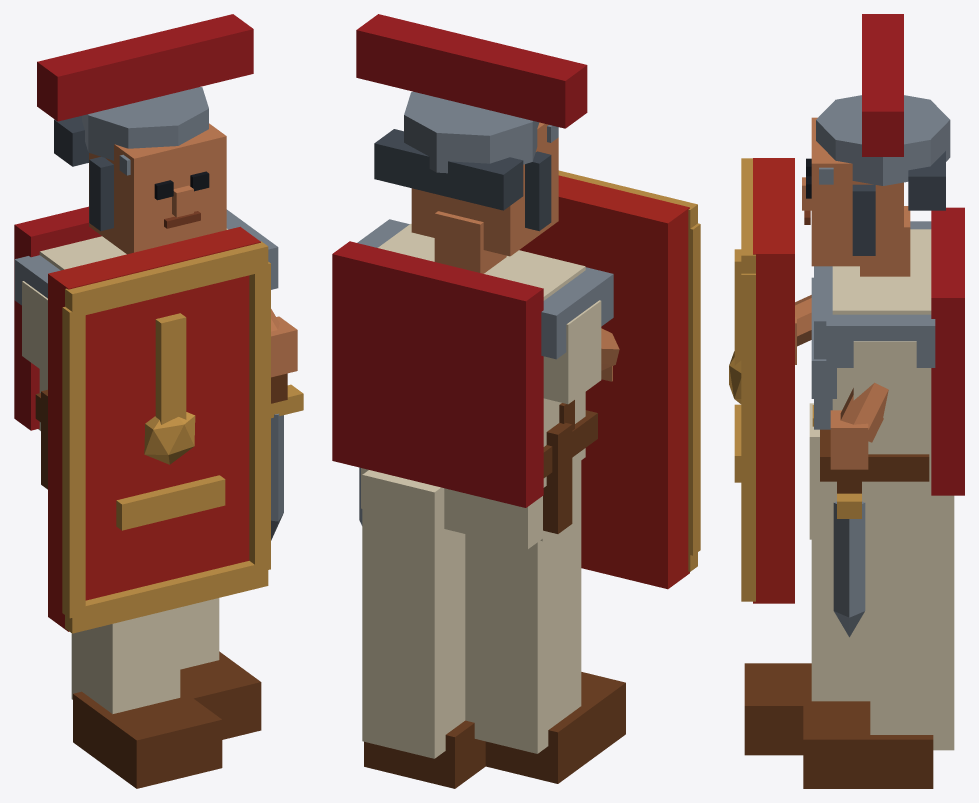
The model's file is centurio.glb.
The picture shows the model from 3 angles, left to right: view 1: azimuth 30°, elevation 25°; view 2: azimuth 150°, elevation 25°; view 3: azimuth 270°, elevation 25°; orthographic projection. The views are drawn at different scales.
Parts seen in each view (by area): view 1: 50_Scutum_Corpo, 41_Cresta_Trasversale, 03_Caliga_Sinistra, 31_Viso, 01_Gamba_Sinistra_Avanti, 53_Scutum_Bordo_Sinistro, 54_Scutum_Bordo_Destro, 51_Scutum_Bordo_Superiore, 36_Elmo_Pretoriano, 52_Scutum_Bordo_Inferiore, 18_Mantello_Quadrato, 04_Caliga_Destra (+15 smaller); view 2: 18_Mantello_Quadrato, 50_Scutum_Corpo, 02_Gamba_Destra_Indietro, 01_Gamba_Sinistra_Avanti, 41_Cresta_Trasversale, 36_Elmo_Pretoriano, 03_Caliga_Sinistra, 38_Paranuca_Elmo, 31_Viso, 10_Bacino, 11_Tunica_Busto, 53_Scutum_Bordo_Sinistro (+9 smaller); view 3: 50_Scutum_Corpo, 02_Gamba_Destra_Indietro, 11_Tunica_Busto, 18_Mantello_Quadrato, 04_Caliga_Destra, 31_Viso, 01_Gamba_Sinistra_Avanti, 36_Elmo_Pretoriano, 03_Caliga_Sinistra, 41_Cresta_Trasversale, 54_Scutum_Bordo_Destro, 24_Spallaccio_Destro (+21 smaller).
Part boxes in pixels (left/top/right/bottom): 50_Scutum_Corpo: left=48, top=226, right=260, bottom=631; 41_Cresta_Trasversale: left=37, top=14, right=253, bottom=121; 03_Caliga_Sinistra: left=73, top=689, right=222, bottom=788; 31_Viso: left=89, top=123, right=226, bottom=254; 01_Gamba_Sinistra_Avanti: left=71, top=607, right=180, bottom=713; 53_Scutum_Bordo_Sinistro: left=62, top=307, right=85, bottom=618; 54_Scutum_Bordo_Destro: left=249, top=262, right=270, bottom=569; 51_Scutum_Bordo_Superiore: left=65, top=241, right=268, bottom=318; 36_Elmo_Pretoriano: left=82, top=87, right=208, bottom=160; 52_Scutum_Bordo_Inferiore: left=65, top=561, right=268, bottom=633; 18_Mantello_Quadrato: left=14, top=206, right=101, bottom=430; 04_Caliga_Destra: left=180, top=651, right=261, bottom=739; 18_Mantello_Quadrato: left=332, top=241, right=543, bottom=507; 50_Scutum_Corpo: left=519, top=175, right=689, bottom=589; 02_Gamba_Destra_Indietro: left=362, top=470, right=465, bottom=758; 01_Gamba_Sinistra_Avanti: left=465, top=461, right=581, bottom=753; 41_Cresta_Trasversale: left=356, top=14, right=587, bottom=128; 36_Elmo_Pretoriano: left=404, top=91, right=539, bottom=173; 03_Caliga_Sinistra: left=485, top=672, right=625, bottom=783; 38_Paranuca_Elmo: left=374, top=129, right=523, bottom=210; 31_Viso: left=411, top=122, right=558, bottom=256; 10_Bacino: left=361, top=461, right=580, bottom=549; 11_Tunica_Busto: left=378, top=224, right=585, bottom=487; 53_Scutum_Bordo_Sinistro: left=688, top=223, right=700, bottom=555; 50_Scutum_Corpo: left=753, top=158, right=794, bottom=603; 02_Gamba_Destra_Indietro: left=870, top=495, right=954, bottom=750; 11_Tunica_Busto: left=832, top=229, right=931, bottom=493; 18_Mantello_Quadrato: left=931, top=207, right=964, bottom=495; 04_Caliga_Destra: left=803, top=706, right=933, bottom=788; 31_Viso: left=811, top=117, right=903, bottom=266; 01_Gamba_Sinistra_Avanti: left=811, top=539, right=870, bottom=701; 36_Elmo_Pretoriano: left=816, top=95, right=950, bottom=185; 03_Caliga_Sinistra: left=744, top=663, right=870, bottom=755; 41_Cresta_Trasversale: left=862, top=14, right=903, bottom=156; 54_Scutum_Bordo_Destro: left=741, top=273, right=755, bottom=586; 24_Spallaccio_Destro: left=826, top=306, right=935, bottom=367.
Bounding box in the file's own units: 1.58 × 3.62 × 1.12.
